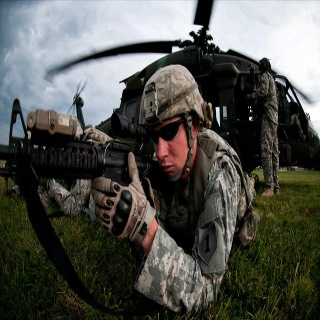shotgun: (1, 109, 162, 187)
